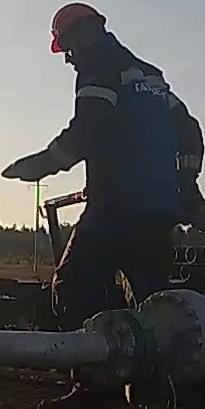gloves: (0, 145, 67, 184), (178, 165, 202, 226)
helmet: (49, 1, 107, 54)
vest: (71, 55, 179, 221)
